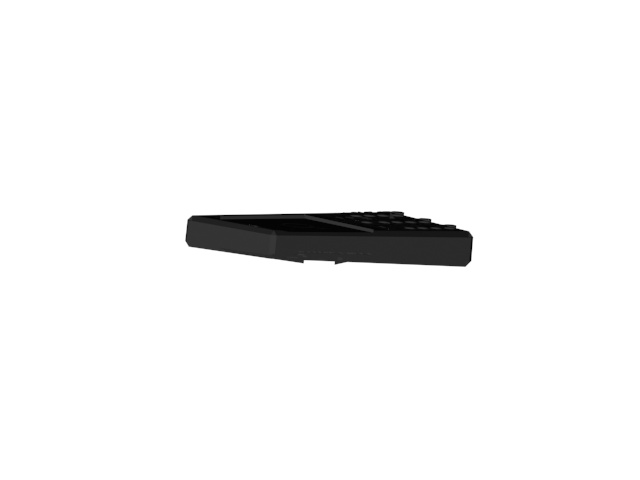mobile_phone: (185, 209, 480, 272)
